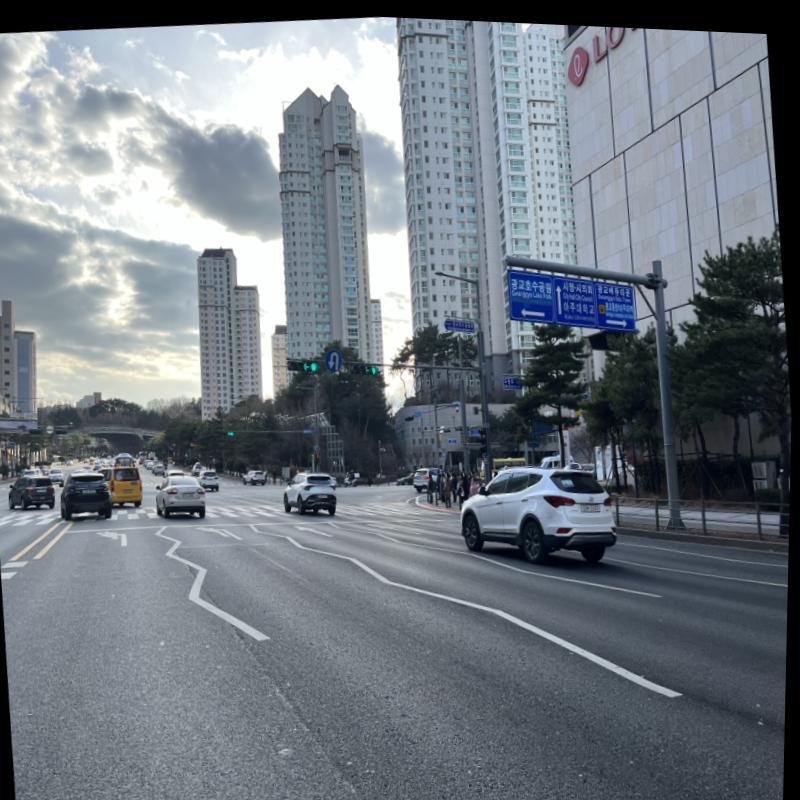green: (312, 359, 319, 369)
left: (304, 359, 312, 369)
